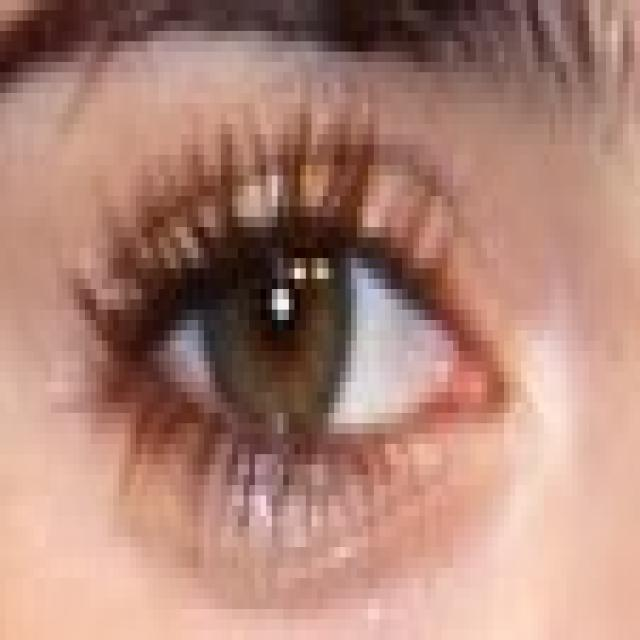Normal: (60, 174, 544, 503)
